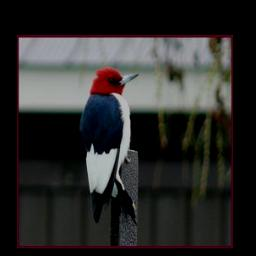Woodpecker: (79, 62, 140, 228)
